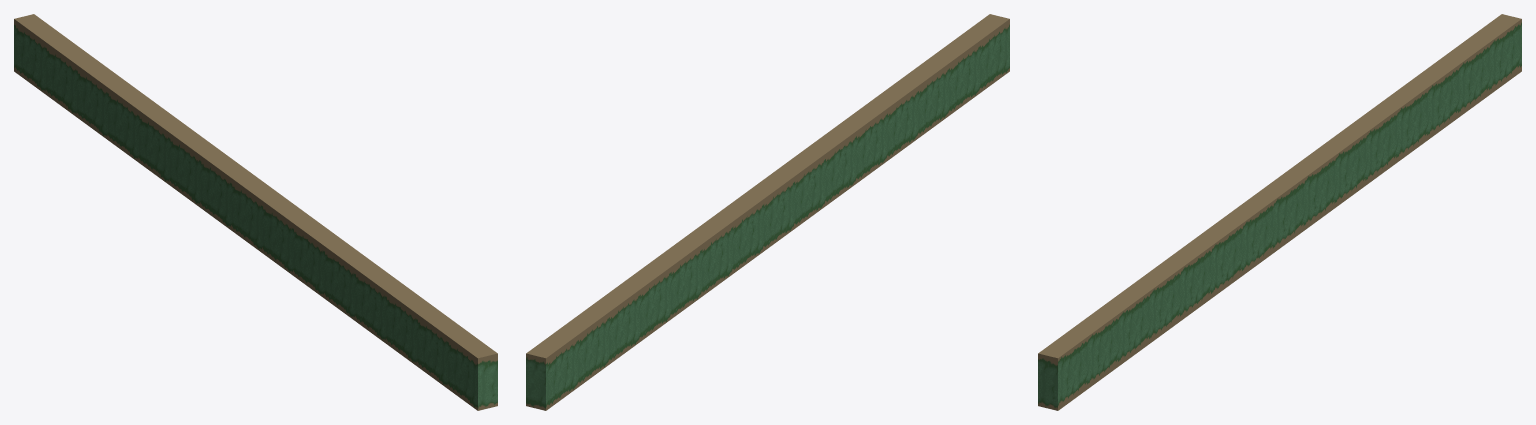
Rendered from Hede_longwall.fbx.
3 renders of one model, left to right at view 1: azimuth 30°, elevation 25°; view 2: azimuth 150°, elevation 25°; view 3: azimuth 330°, elevation 25°, orthographic.
Visible parts, largest first — view 1: Hedge_1; view 2: Hedge_1; view 3: Hedge_1.
Part boxes in pixels (x1,y1,x2,y2): Hedge_1: (14, 14, 497, 410); Hedge_1: (526, 14, 1009, 410); Hedge_1: (1038, 14, 1521, 410).
Size of the model in its own units: 200 by 503 by 8035.
1 material, 1 textured.
